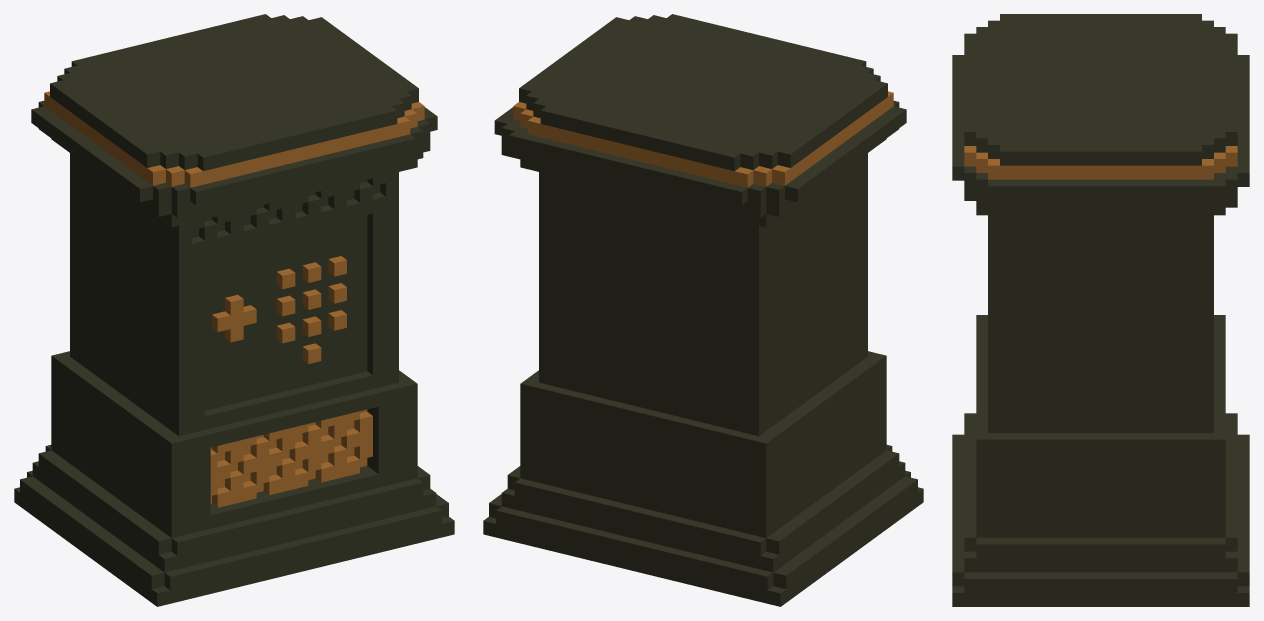
File: coffrefort.fbx
3 renders of one model, left to right at view 1: azimuth 30°, elevation 25°; view 2: azimuth 150°, elevation 25°; view 3: azimuth 270°, elevation 25°, orthographic. The views are drawn at different scales.
Visible parts, largest first — view 1: Coffre fort; view 2: Coffre fort; view 3: Coffre fort.
Boxes of the visible parts, x1,y1,x2,y2 form: Coffre fort: (14,14,454,606); Coffre fort: (483,14,923,606); Coffre fort: (952,14,1249,606).
Bounding box in the file's own units: 36 × 50 × 30.
Materials: 1 (1 with a texture image).
